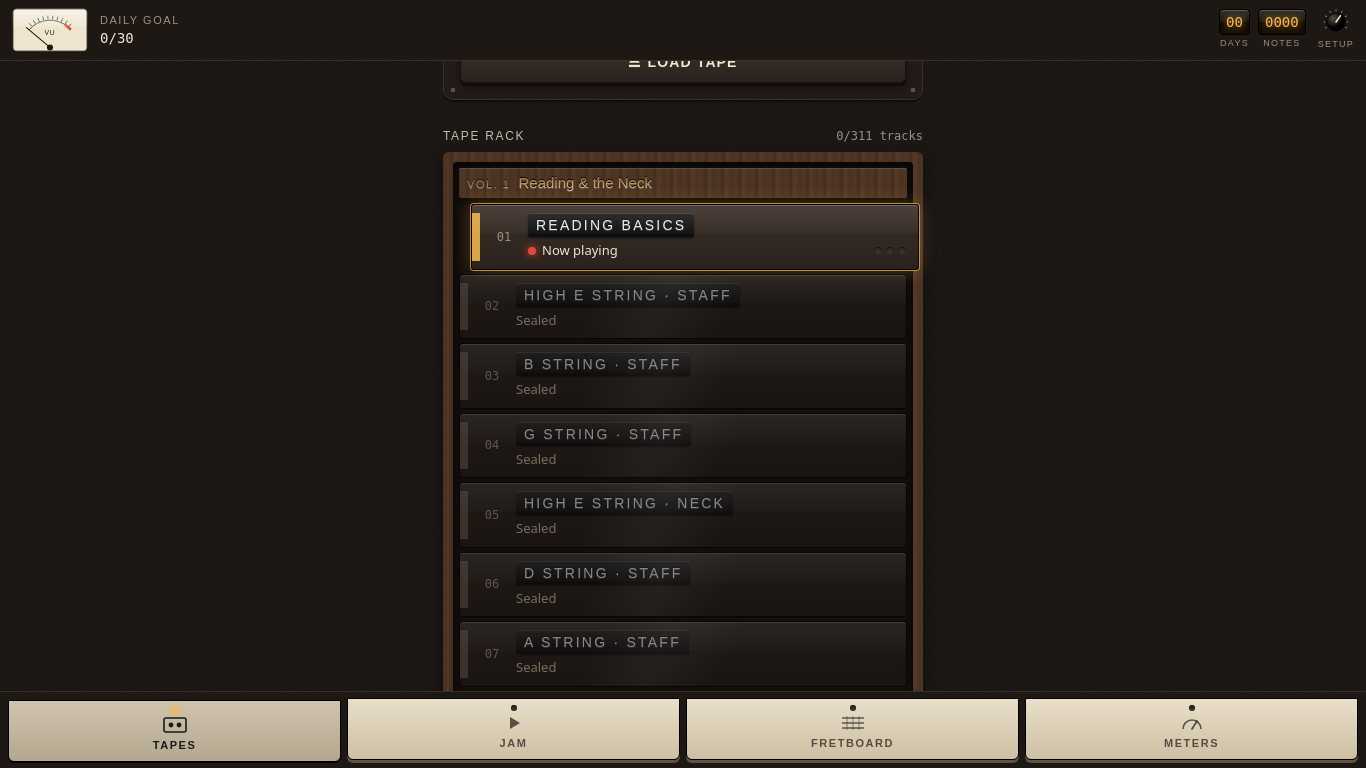
Test: the app › opens on the deck and the tape rack
The width and height of the screenshot is (1366, 768).
(page scrolled)
Browsing another tape loads it into the deck without moving "now playing".
Click the button with aria-label "Tape 3: B String · Staff". click: coordinates (683, 376)
box: [459, 343, 907, 409]
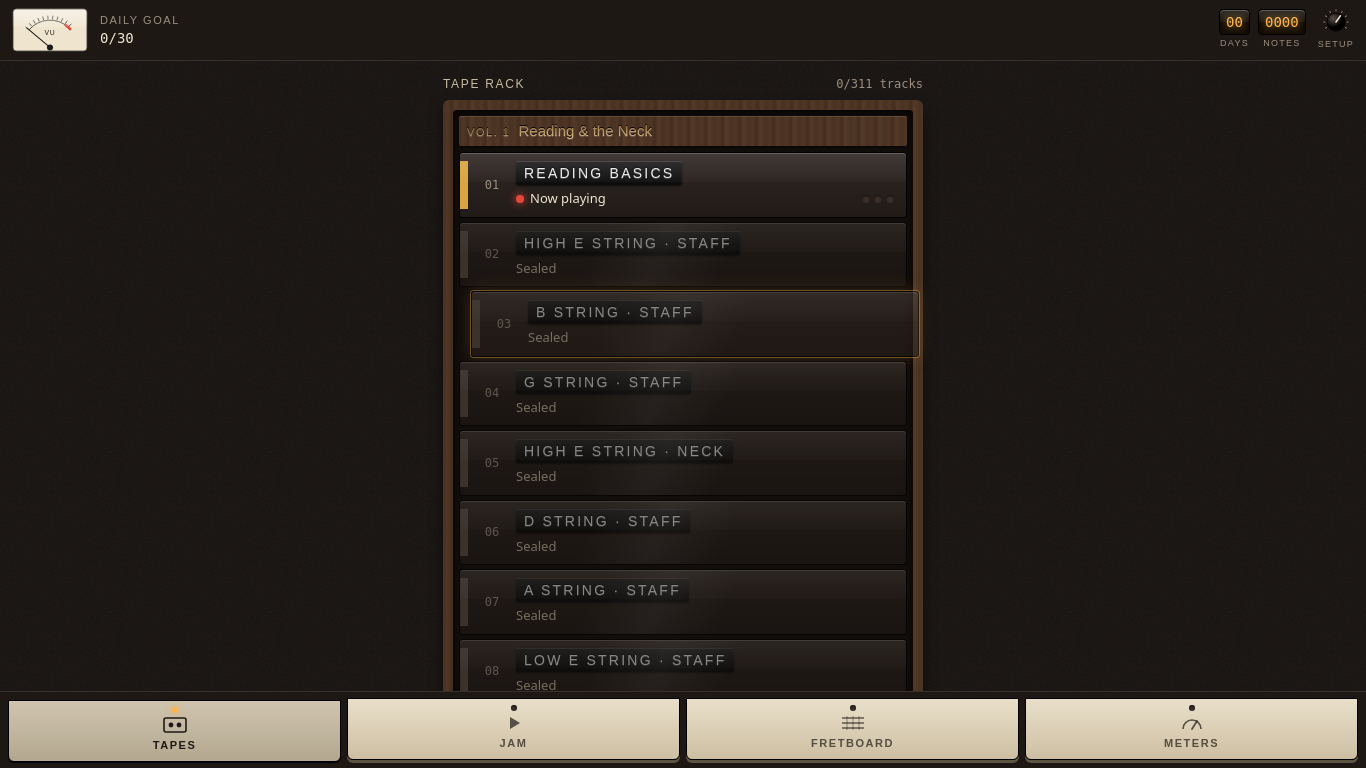
Click the button with aria-label "Tape 1: Reading basics". click: coordinates (683, 185)
box: [459, 152, 907, 218]
(page scrolled)
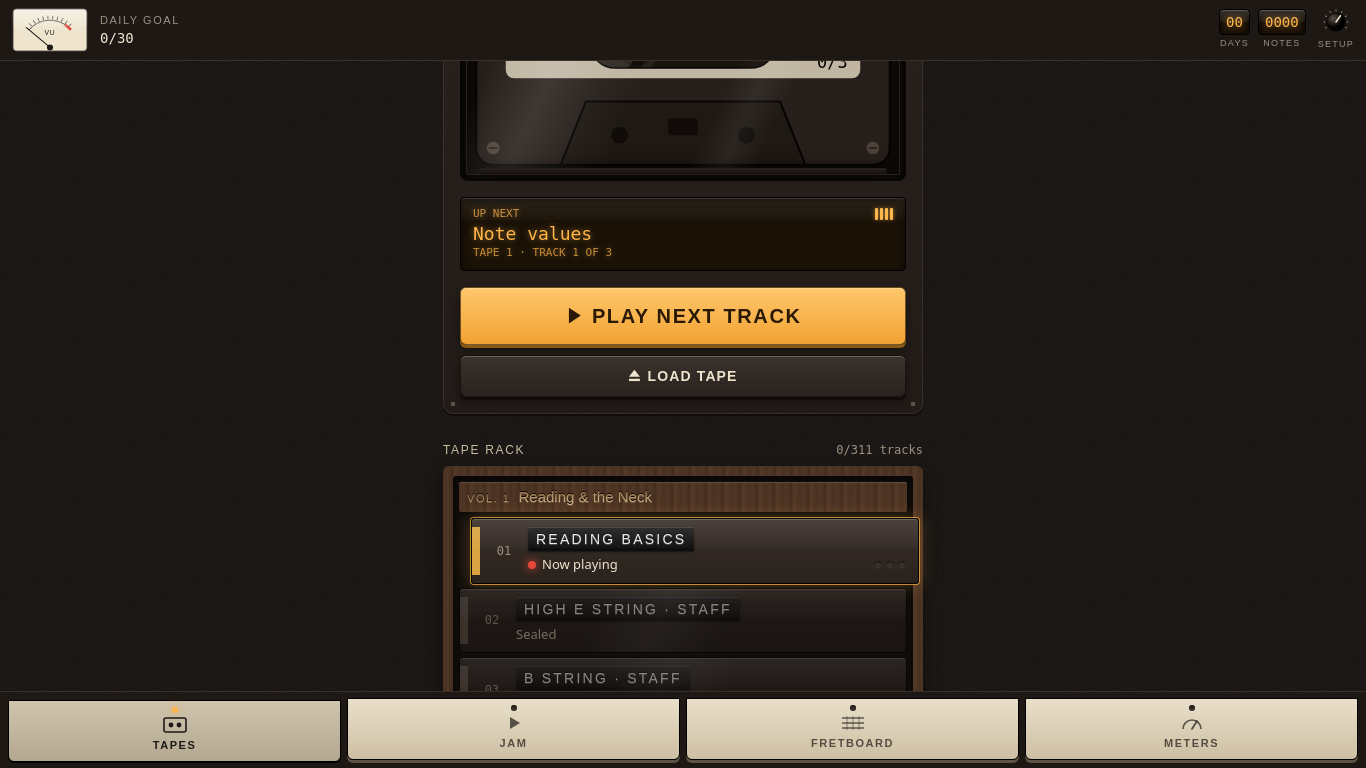
Now the element with class "lcd" shows "UP NEXT", box [473, 207, 519, 220]
Click the button "Load tape". click: coordinates (683, 376)
box: [460, 355, 906, 397]
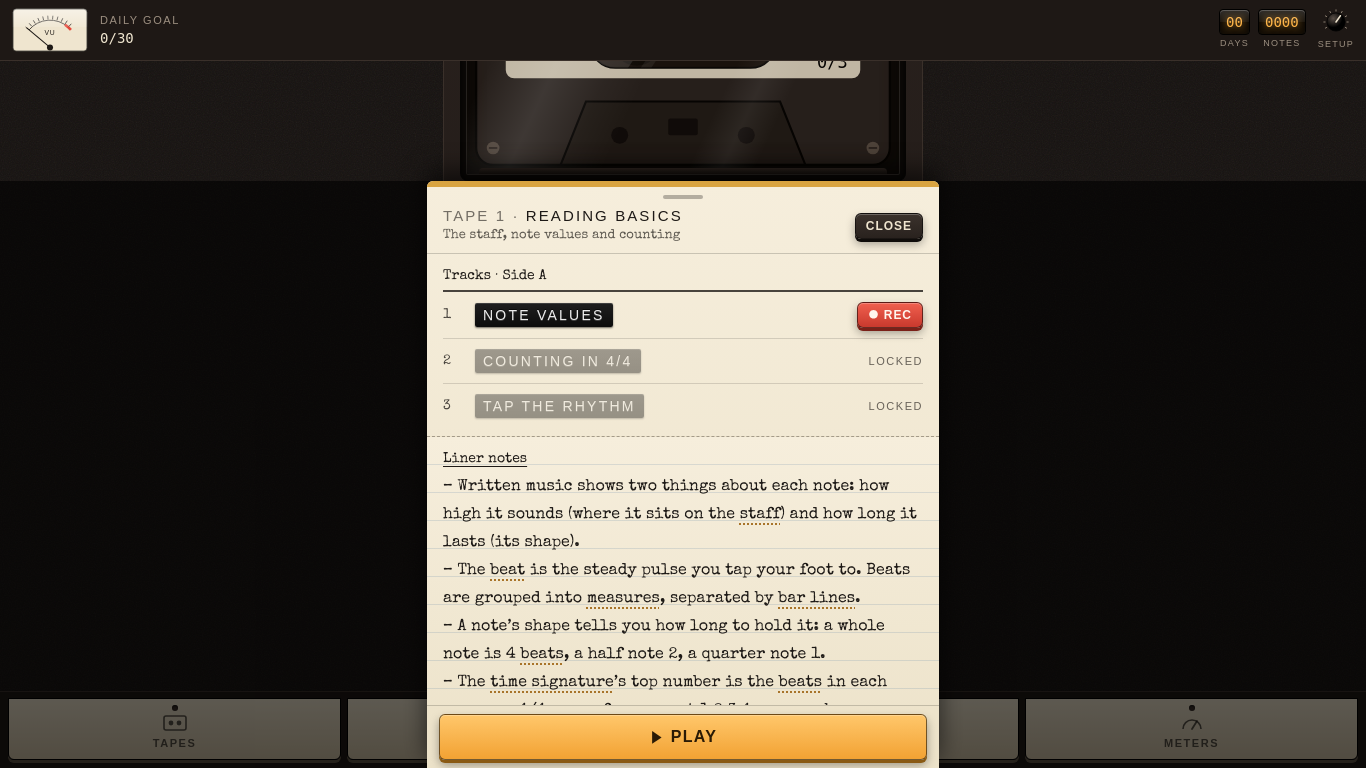
Now the heading "Liner notes" is shown, box [443, 452, 527, 466]
Click the button "Play". click: coordinates (683, 737)
box: [439, 714, 927, 760]
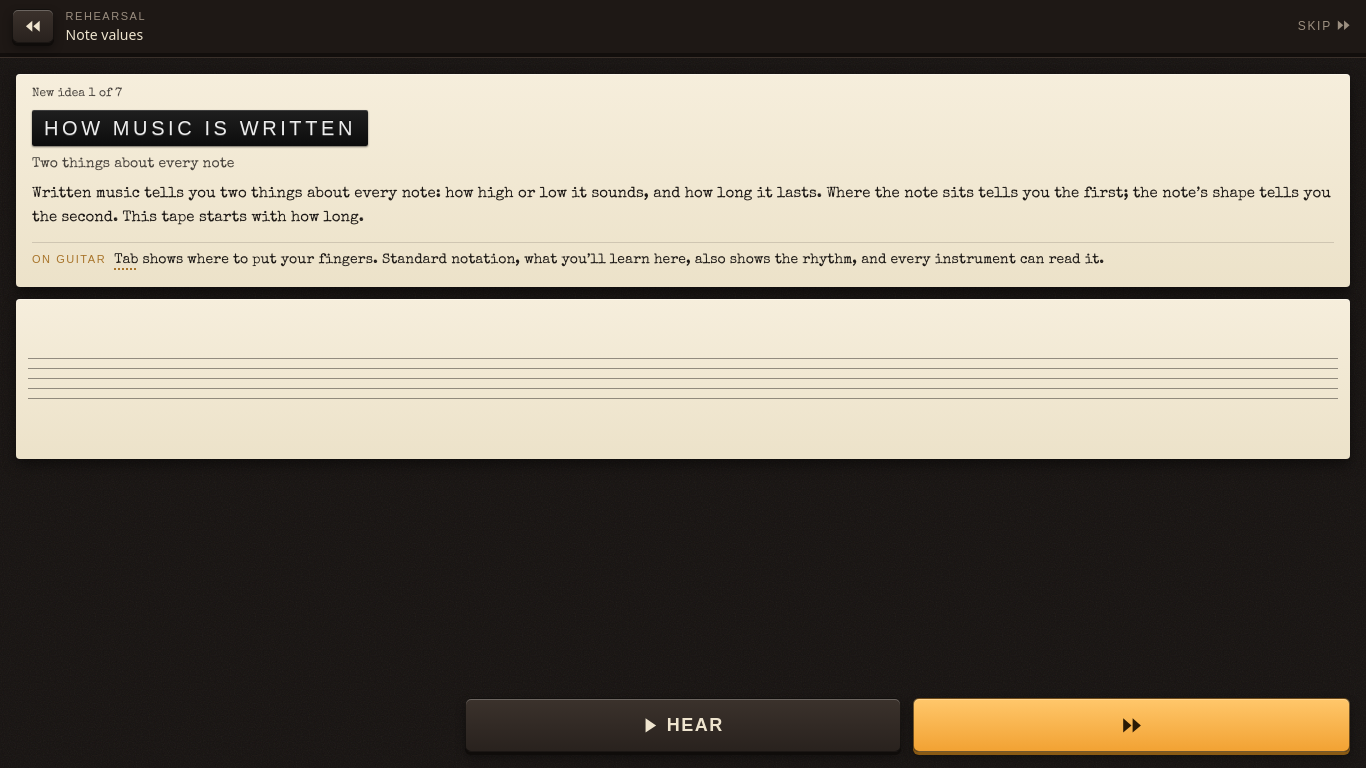
Now the text "New idea 1 of 7" is shown, box [32, 88, 122, 100]
